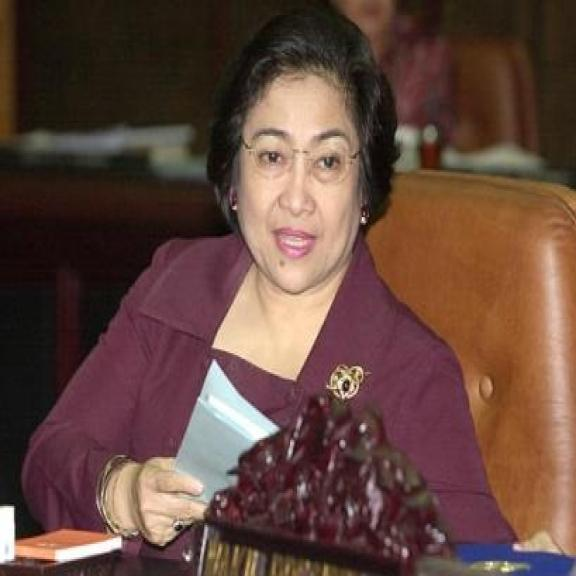face: (222, 73, 369, 299)
